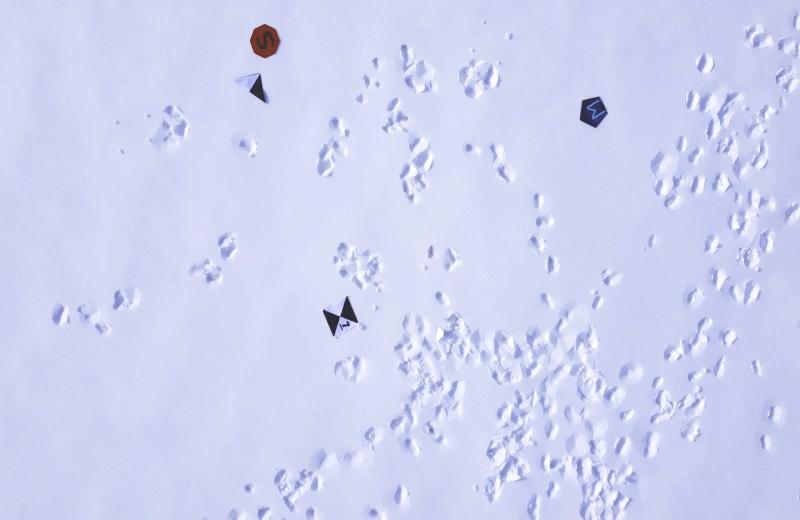Octagon: (246, 22, 286, 63)
Pentagon: (580, 94, 610, 132)
